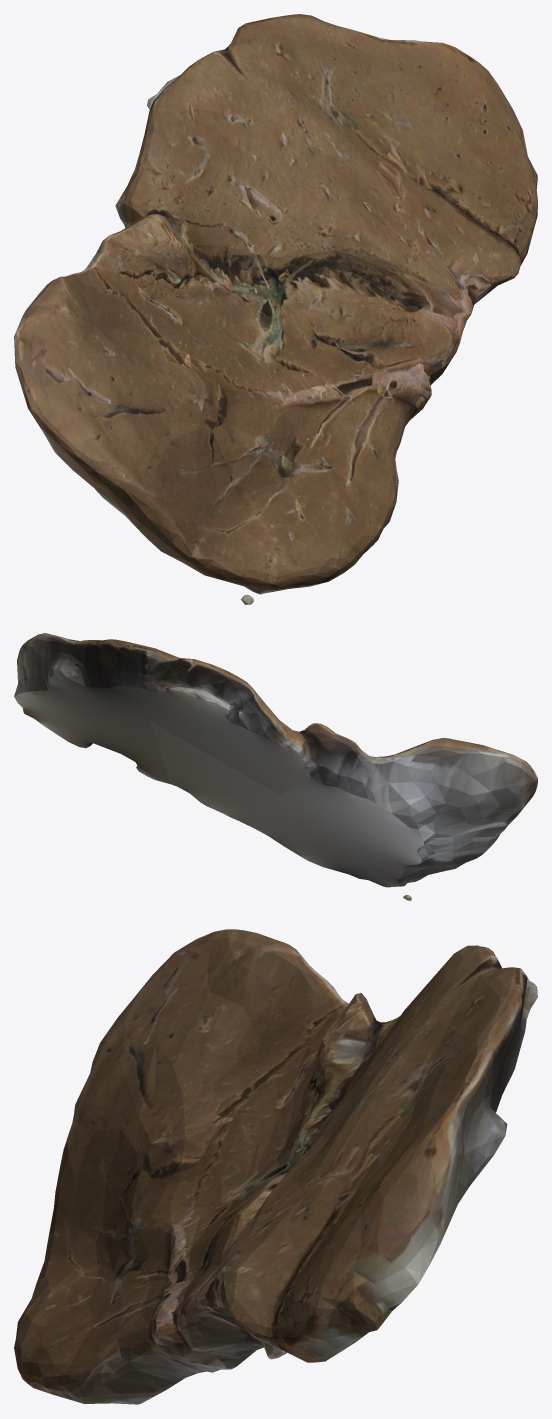
File: normal_decimate.dae
3 views of the same model, one above another, from view 1: azimuth 30°, elevation 25°; view 2: azimuth 150°, elevation 25°; view 3: azimuth 270°, elevation 25° (orthographic). The views are drawn at different scales.
Parts seen in each view (by area): view 1: model_mesh_002; view 2: model_mesh_002; view 3: model_mesh_002.
Part boxes in pixels (bbox=[...]): model_mesh_002: bbox=[14, 14, 537, 604]; model_mesh_002: bbox=[14, 633, 537, 900]; model_mesh_002: bbox=[14, 929, 537, 1404].
Bounding box in the file's own units: 0.2621 × 0.1616 × 0.1761.
1 material, 1 textured.
